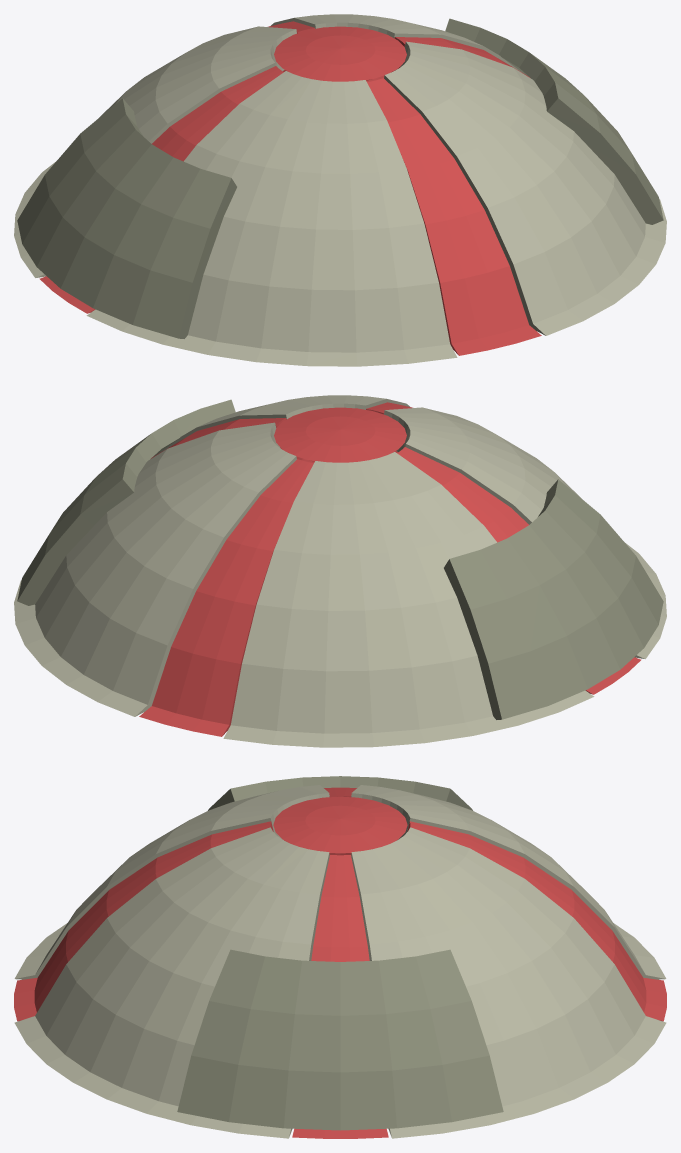
Rendered from vge_mech_grav_tether_orb.obj.
3 renders of one model, top to bottom at view 1: azimuth 30°, elevation 25°; view 2: azimuth 150°, elevation 25°; view 3: azimuth 270°, elevation 25°, orthographic.
Visible parts, largest first — view 1: vge_mech_grav_tether_orb_3, vge_mech_grav_tether_orb_4, vge_mech_grav_tether_orb_11, vge_mech_grav_tether_orb_8, vge_mech_grav_tether_orb_2, vge_mech_grav_tether_orb_10, vge_mech_grav_tether_orb_9, vge_mech_grav_tether_orb_7, vge_mech_grav_tether_orb_1, vge_mech_grav_tether_orb_5; view 2: vge_mech_grav_tether_orb_2, vge_mech_grav_tether_orb_1, vge_mech_grav_tether_orb_11, vge_mech_grav_tether_orb_6, vge_mech_grav_tether_orb_3, vge_mech_grav_tether_orb_10, vge_mech_grav_tether_orb_9, vge_mech_grav_tether_orb_7, vge_mech_grav_tether_orb_4, vge_mech_grav_tether_orb_5; view 3: vge_mech_grav_tether_orb_10, vge_mech_grav_tether_orb_1, vge_mech_grav_tether_orb_4, vge_mech_grav_tether_orb_2, vge_mech_grav_tether_orb_3, vge_mech_grav_tether_orb_9, vge_mech_grav_tether_orb_6, vge_mech_grav_tether_orb_8, vge_mech_grav_tether_orb_5, vge_mech_grav_tether_orb_11.
Part boxes in pixels (left/top/right/bottom): vge_mech_grav_tether_orb_3: left=86, top=71, right=457, bottom=366; vge_mech_grav_tether_orb_4: left=384, top=41, right=666, bottom=335; vge_mech_grav_tether_orb_11: left=17, top=98, right=236, bottom=338; vge_mech_grav_tether_orb_8: left=367, top=78, right=541, bottom=355; vge_mech_grav_tether_orb_2: left=14, top=26, right=296, bottom=277; vge_mech_grav_tether_orb_10: left=445, top=18, right=663, bottom=224; vge_mech_grav_tether_orb_9: left=274, top=26, right=406, bottom=81; vge_mech_grav_tether_orb_7: left=39, top=66, right=283, bottom=313; vge_mech_grav_tether_orb_1: left=271, top=14, right=521, bottom=72; vge_mech_grav_tether_orb_5: left=391, top=37, right=529, bottom=77; vge_mech_grav_tether_orb_2: left=223, top=452, right=594, bottom=747; vge_mech_grav_tether_orb_1: left=14, top=422, right=296, bottom=716; vge_mech_grav_tether_orb_11: left=444, top=479, right=663, bottom=719; vge_mech_grav_tether_orb_6: left=139, top=459, right=313, bottom=736; vge_mech_grav_tether_orb_3: left=384, top=407, right=666, bottom=658; vge_mech_grav_tether_orb_10: left=17, top=399, right=235, bottom=605; vge_mech_grav_tether_orb_9: left=274, top=407, right=406, bottom=462; vge_mech_grav_tether_orb_7: left=397, top=447, right=641, bottom=694; vge_mech_grav_tether_orb_4: left=159, top=395, right=409, bottom=453; vge_mech_grav_tether_orb_5: left=151, top=418, right=289, bottom=458; vge_mech_grav_tether_orb_10: left=177, top=949, right=503, bottom=1130; vge_mech_grav_tether_orb_1: left=351, top=827, right=666, bottom=1138; vge_mech_grav_tether_orb_4: left=14, top=827, right=329, bottom=1138; vge_mech_grav_tether_orb_2: left=351, top=785, right=666, bottom=979; vge_mech_grav_tether_orb_3: left=14, top=785, right=329, bottom=979; vge_mech_grav_tether_orb_9: left=273, top=796, right=407, bottom=855; vge_mech_grav_tether_orb_6: left=407, top=821, right=666, bottom=1021; vge_mech_grav_tether_orb_8: left=14, top=821, right=273, bottom=1021; vge_mech_grav_tether_orb_5: left=292, top=855, right=388, bottom=1138; vge_mech_grav_tether_orb_11: left=208, top=776, right=472, bottom=810.
Size of the model in its own units: 2.97 by 0.9145 by 2.97.
